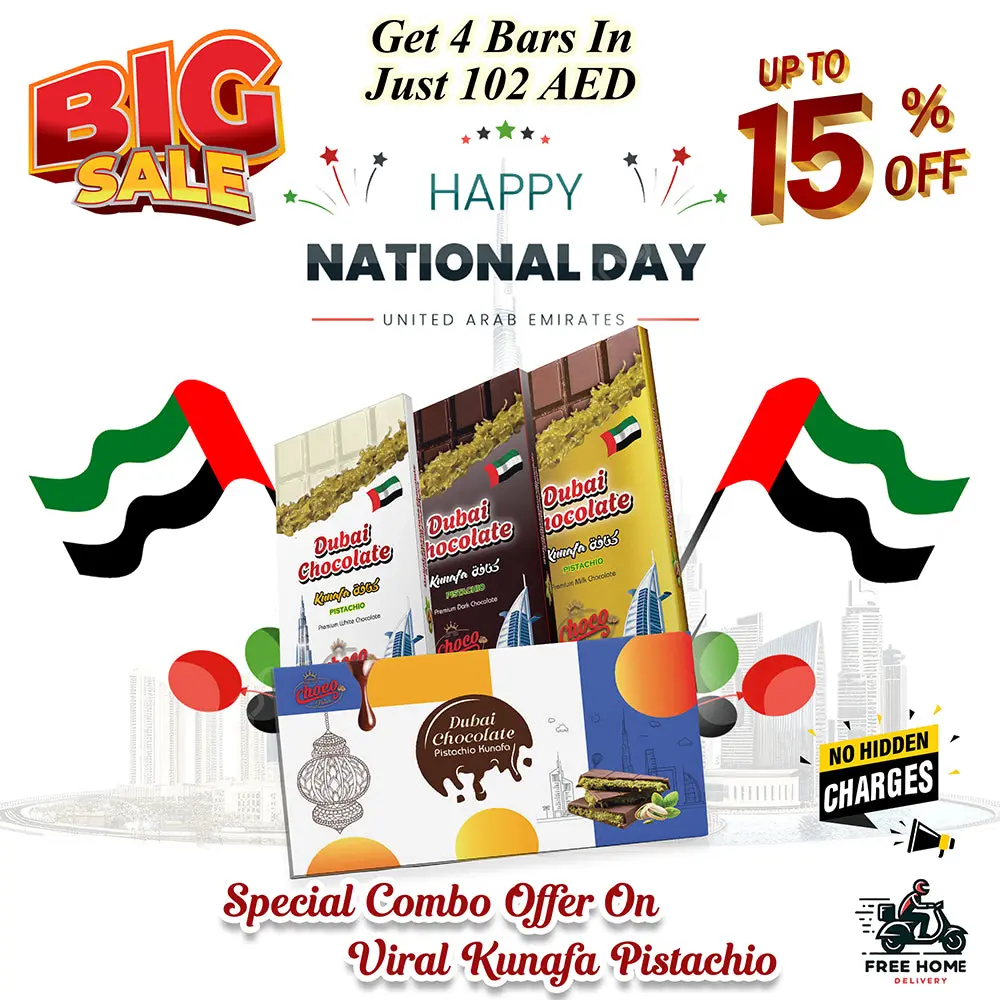Headline: (218, 867, 799, 1000), (370, 10, 647, 112)
Price: (727, 48, 976, 222)
Product: (248, 327, 748, 858)
logo: (417, 685, 544, 799)
